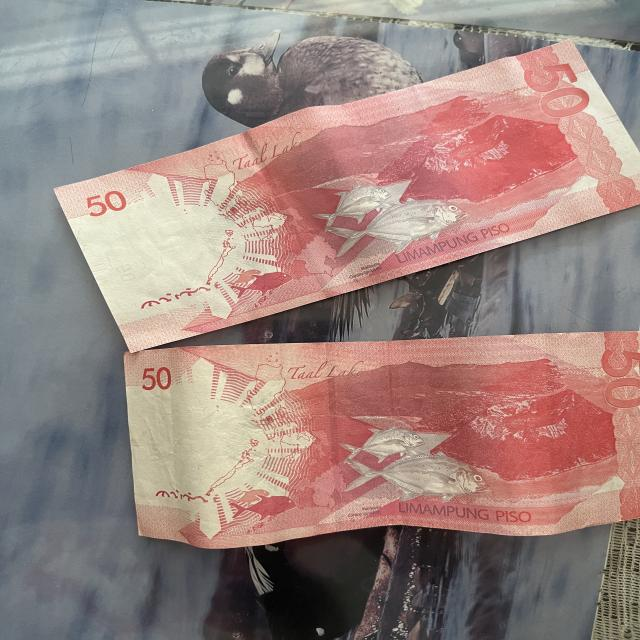50_maliputo: (327, 416, 512, 510), (311, 169, 472, 252)
50_maliputo_watermark: (215, 486, 304, 525), (215, 264, 293, 296)
value_watermark: (112, 256, 147, 289)
